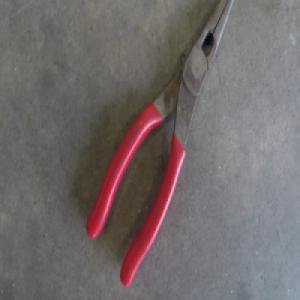Pliers: (86, 0, 238, 290)
